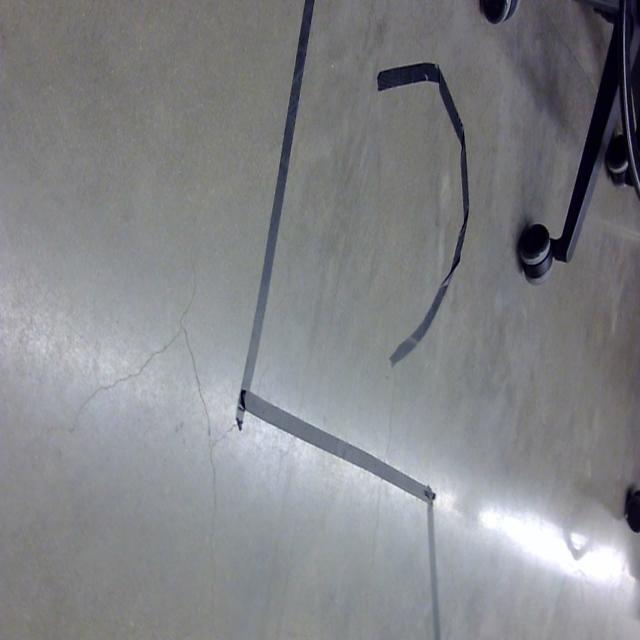tape: (236, 0, 441, 640), (378, 64, 470, 368)
